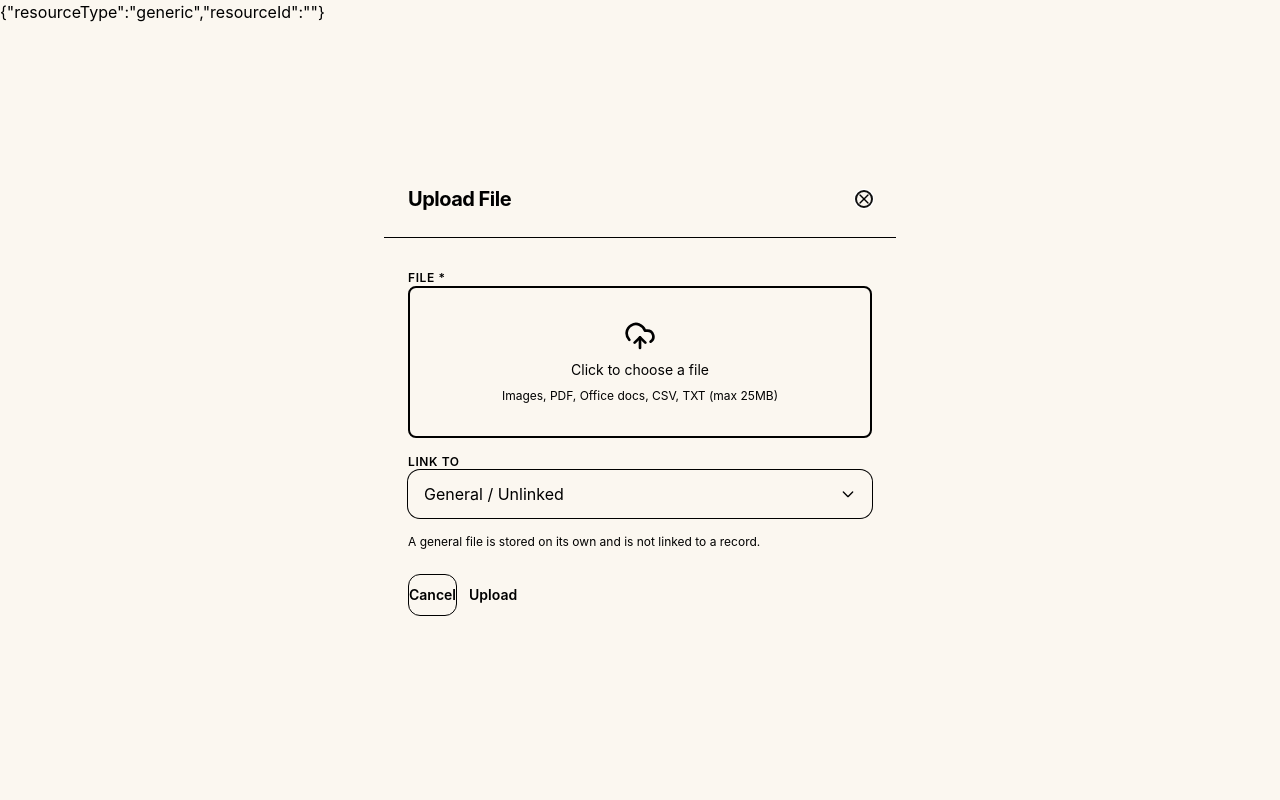
Test case: A-118 — the record id is offered only for a linkable type › Work Order shows the record-id field
This screenshot has width=1280, height=800.
Click the button "General / Unlinked".
click(494, 494)  # box [408,470,872,518]
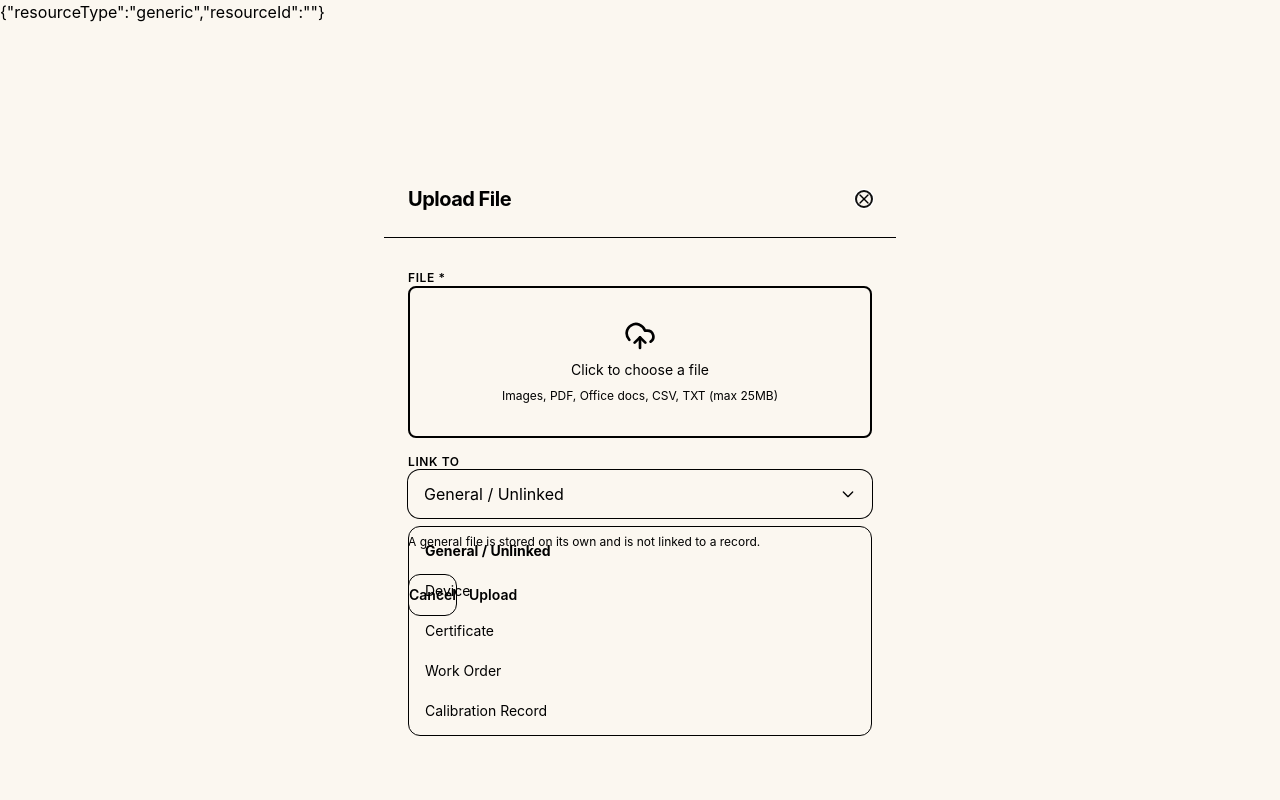
Click the option "Work Order".
click(463, 670)  # box [425,662,501,678]
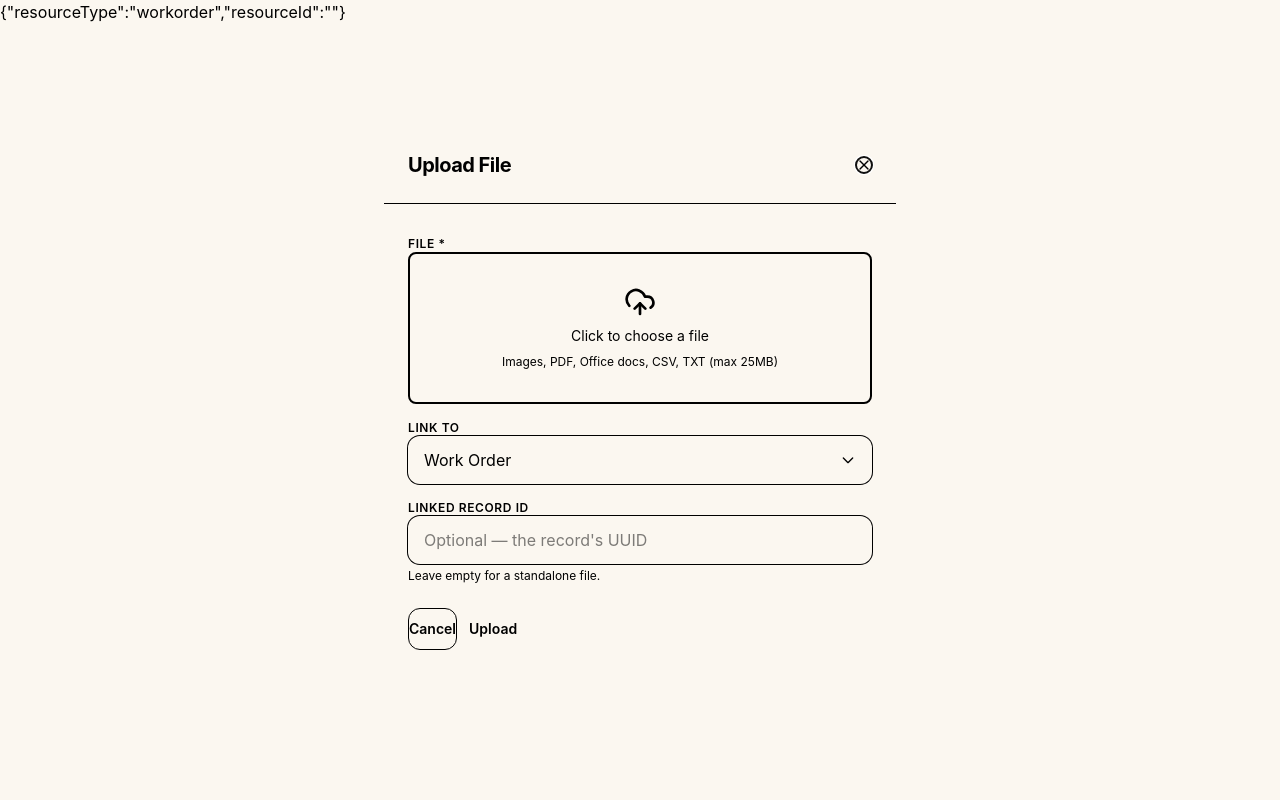
Check: the field labelled "Linked Record ID" is shown, box [408,516,872,564]
